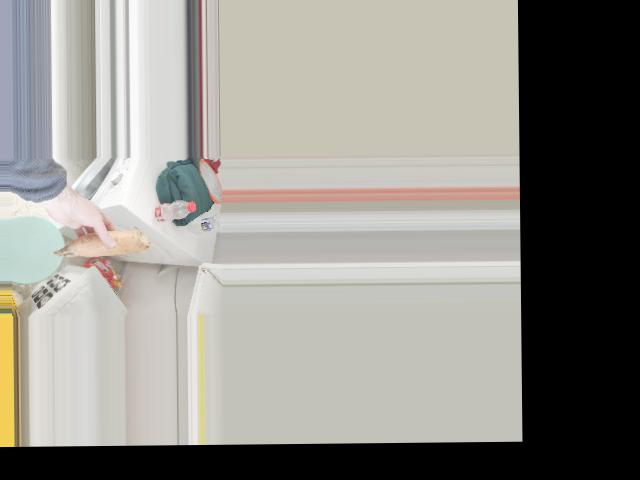sweet_potato: (51, 223, 154, 264)
